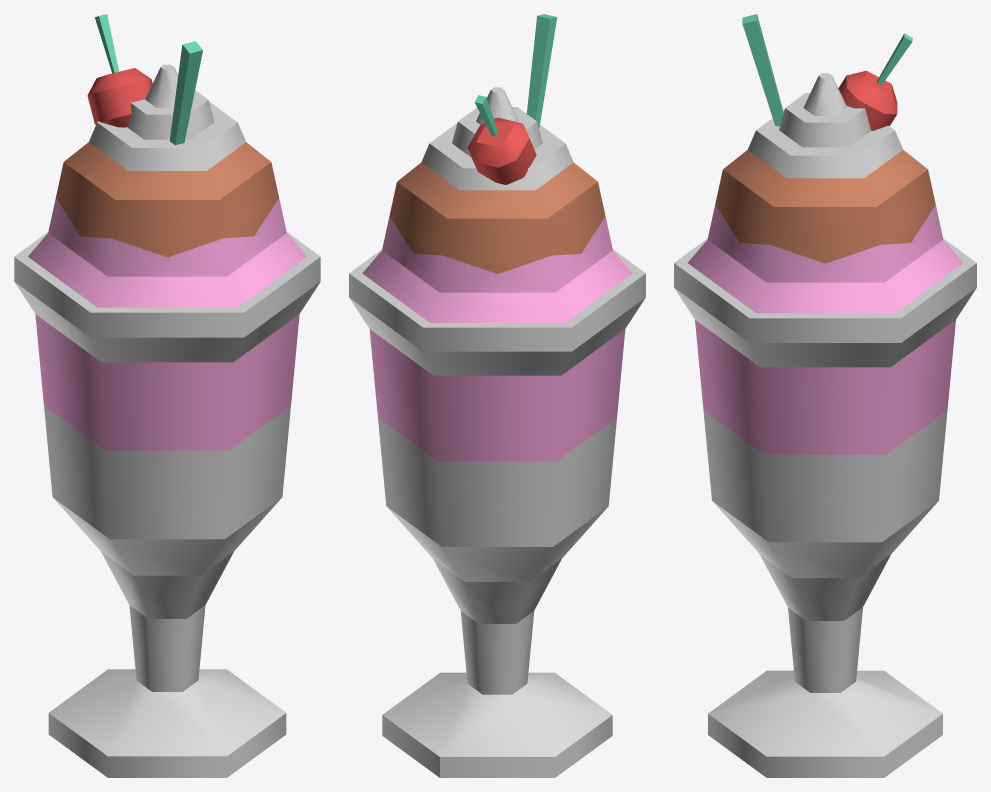
File: sundae.dae
The picture shows the model from 3 angles, left to right: view 1: azimuth 30°, elevation 25°; view 2: azimuth 150°, elevation 25°; view 3: azimuth 270°, elevation 25°; orthographic projection. The views are drawn at different scales.
Visible parts, largest first — view 1: sundae, cherry, straw; view 2: sundae, cherry, straw; view 3: sundae, cherry, straw.
Boxes of the visible parts, x1=… form: sundae: x1=14, y1=64, x2=320, y2=777; cherry: x1=87, y1=14, x2=152, y2=127; straw: x1=169, y1=41, x2=202, y2=145; sundae: x1=349, y1=87, x2=645, y2=777; cherry: x1=467, y1=95, x2=536, y2=184; straw: x1=526, y1=14, x2=557, y2=128; sundae: x1=674, y1=73, x2=976, y2=777; cherry: x1=838, y1=33, x2=912, y2=130; straw: x1=742, y1=14, x2=783, y2=126.
Bounding box in the file's own units: 0.2232 × 0.6679 × 0.2577.
